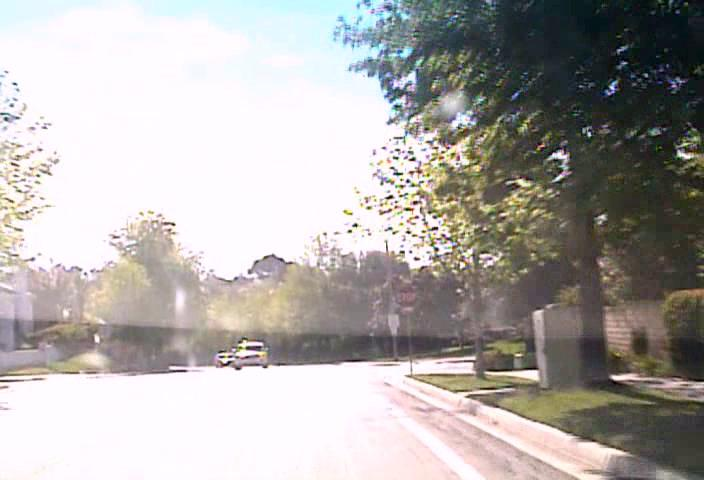stop: (394, 283, 419, 308)
